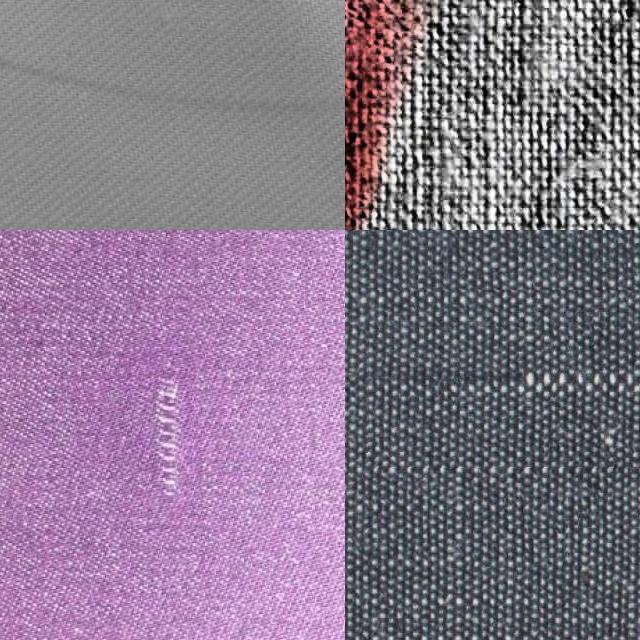Thread_other: (345, 0, 476, 230)
stains: (366, 290, 640, 468), (126, 362, 192, 516)
